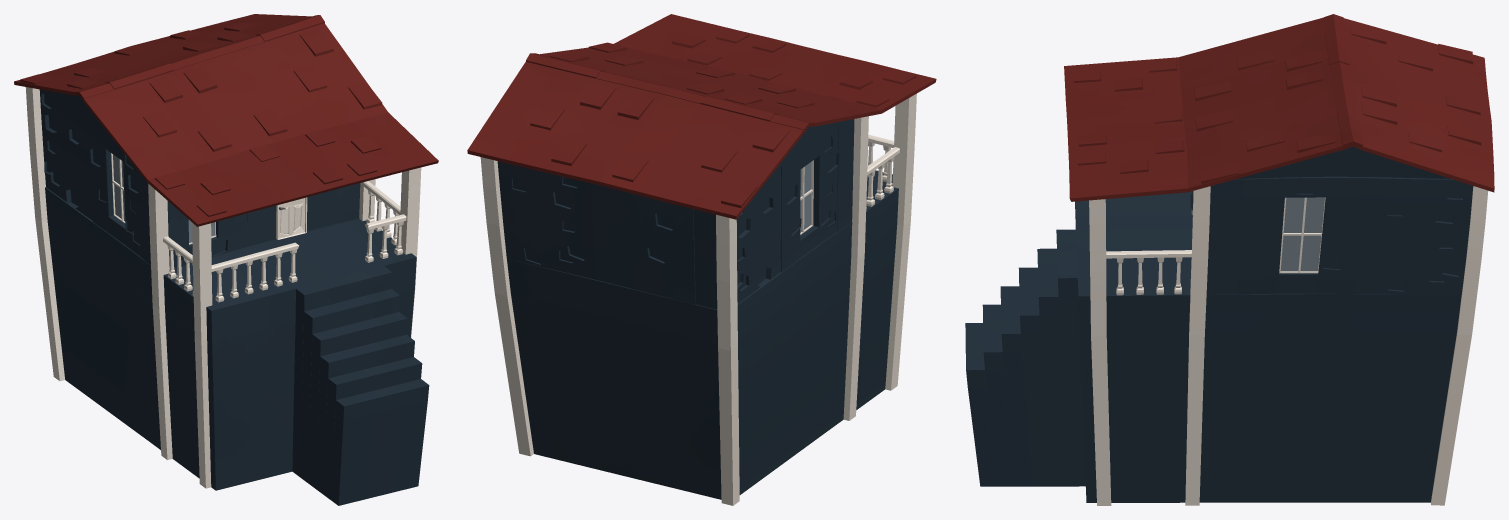
Rendered from 1 skewed - col.glb.
3 renders of one model, left to right at view 1: azimuth 30°, elevation 25°; view 2: azimuth 150°, elevation 25°; view 3: azimuth 270°, elevation 25°, orthographic. The views are drawn at different scales.
Parts seen in each view (by area): view 1: 1 skewed - col.001; view 2: 1 skewed - col.001; view 3: 1 skewed - col.001.
Part boxes in pixels (<box>): 1 skewed - col.001: <box>14,14,438,505</box>; 1 skewed - col.001: <box>467,14,936,505</box>; 1 skewed - col.001: <box>965,14,1494,505</box>.
Size of the model in its own units: 16.1 by 20.65 by 25.91.
Materials: 3 (1 with a texture image).
